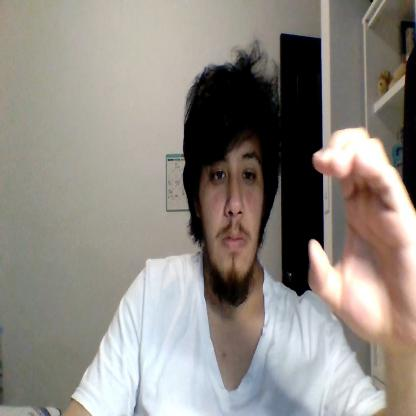C: (309, 127, 415, 341)
